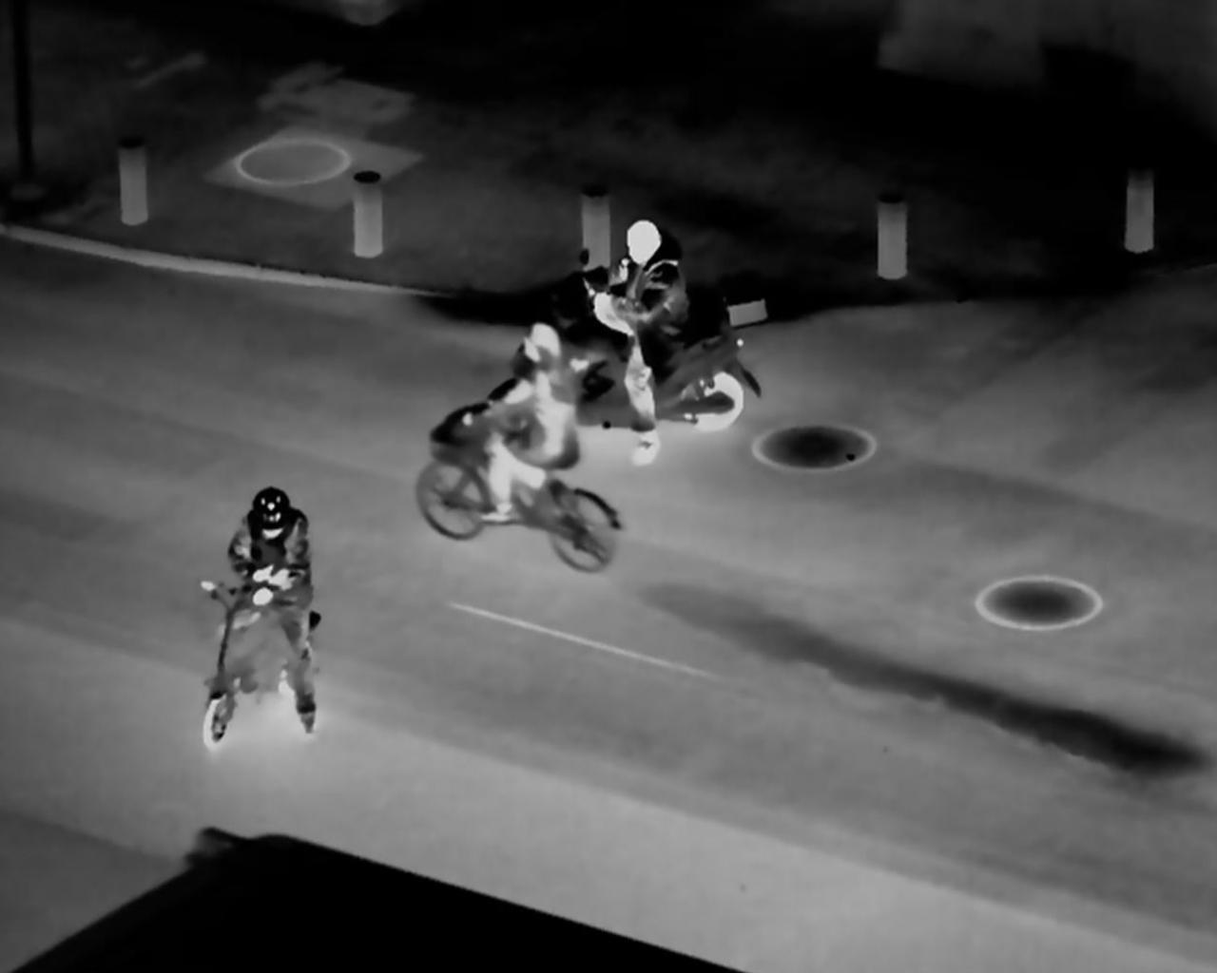person: (211, 484, 342, 743), (582, 213, 692, 466), (476, 315, 583, 531)
